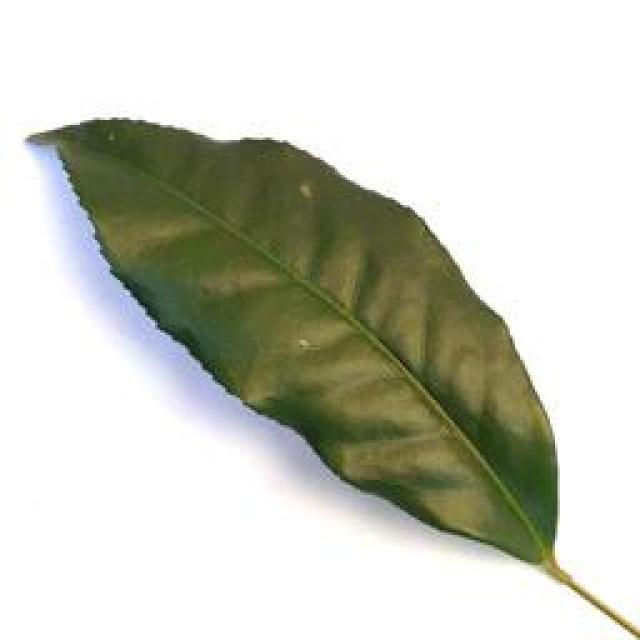Healthy: (16, 109, 566, 566)
